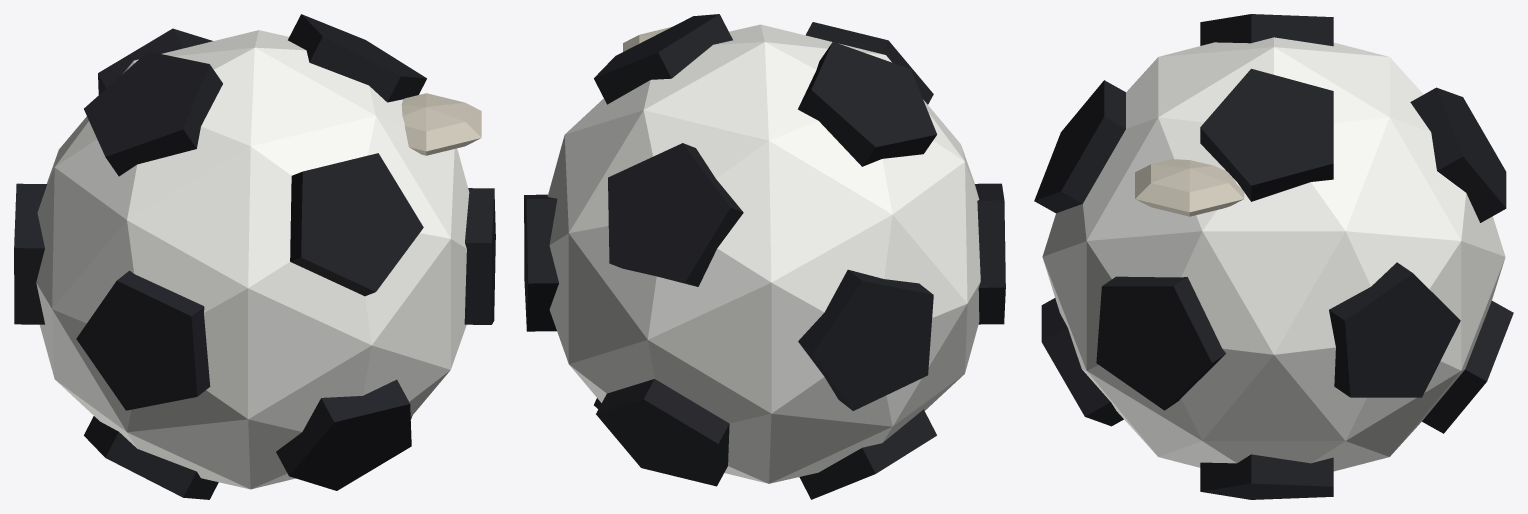
File: football_ball.glb
The picture shows the model from 3 angles, left to right: view 1: azimuth 30°, elevation 25°; view 2: azimuth 150°, elevation 25°; view 3: azimuth 270°, elevation 25°; orthographic projection.
Parts seen in each view (by area): view 1: ball_ball_white, patches_ball_black, scuff_ball_scuff; view 2: ball_ball_white, patches_ball_black; view 3: ball_ball_white, patches_ball_black, scuff_ball_scuff.
Boxes of the visible parts, left/top/right/bottom form: ball_ball_white: left=36, top=30, right=469, bottom=489; patches_ball_black: left=14, top=14, right=495, bottom=499; scuff_ball_scuff: left=401, top=93, right=481, bottom=155; ball_ball_white: left=547, top=24, right=980, bottom=483; patches_ball_black: left=524, top=14, right=1005, bottom=499; ball_ball_white: left=1042, top=37, right=1505, bottom=471; patches_ball_black: left=1034, top=14, right=1513, bottom=499; scuff_ball_scuff: left=1135, top=159, right=1244, bottom=216.
Size of the model in its own units: 0.2278 by 0.2261 by 0.2279.
